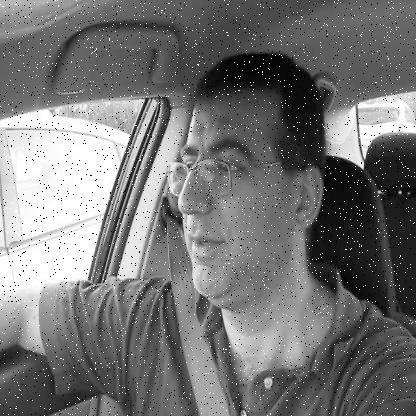seatbelt: (153, 28, 351, 416)
